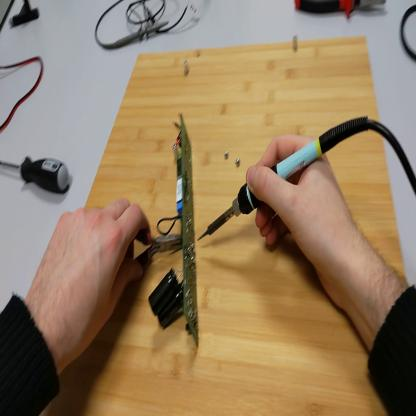hand: (30, 195, 150, 360), (245, 135, 357, 307)
high voltage board: (151, 110, 202, 346)
oscilloscope probe tip: (116, 15, 173, 49)
pliers: (295, 1, 388, 21), (136, 229, 183, 268)
screwdriver-: (2, 157, 73, 193)
welder probe tip: (199, 114, 370, 242)
working area: (41, 35, 407, 416)
